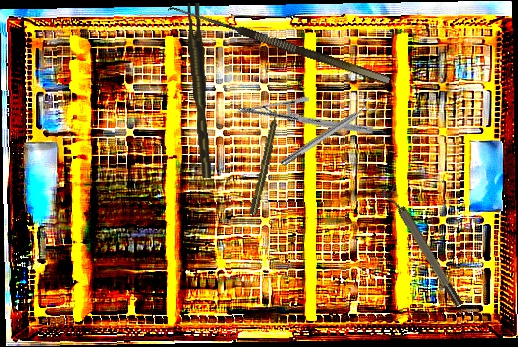Fixation Ring: (379, 182, 466, 312), (276, 94, 380, 172)
Handpiece: (248, 109, 282, 216)
Hook Surgical: (164, 1, 391, 97)
Needle Holder: (235, 65, 375, 175)
Tissue Forceps: (186, 2, 212, 179)
